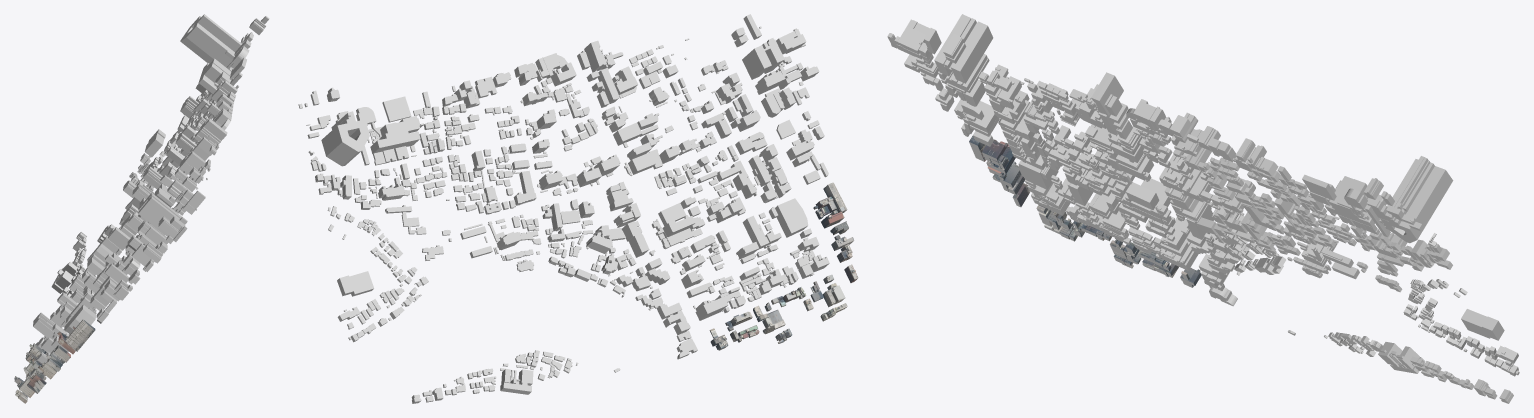
Rendered from data133.glb.
3 views of the same model, side by side, from view 1: azimuth 30°, elevation 25°; view 2: azimuth 150°, elevation 25°; view 3: azimuth 270°, elevation 25° (orthographic). The views are drawn at different scales.
Bounding box in the file's own units: 846 × 513 × 904.
2 materials, 1 textured.
